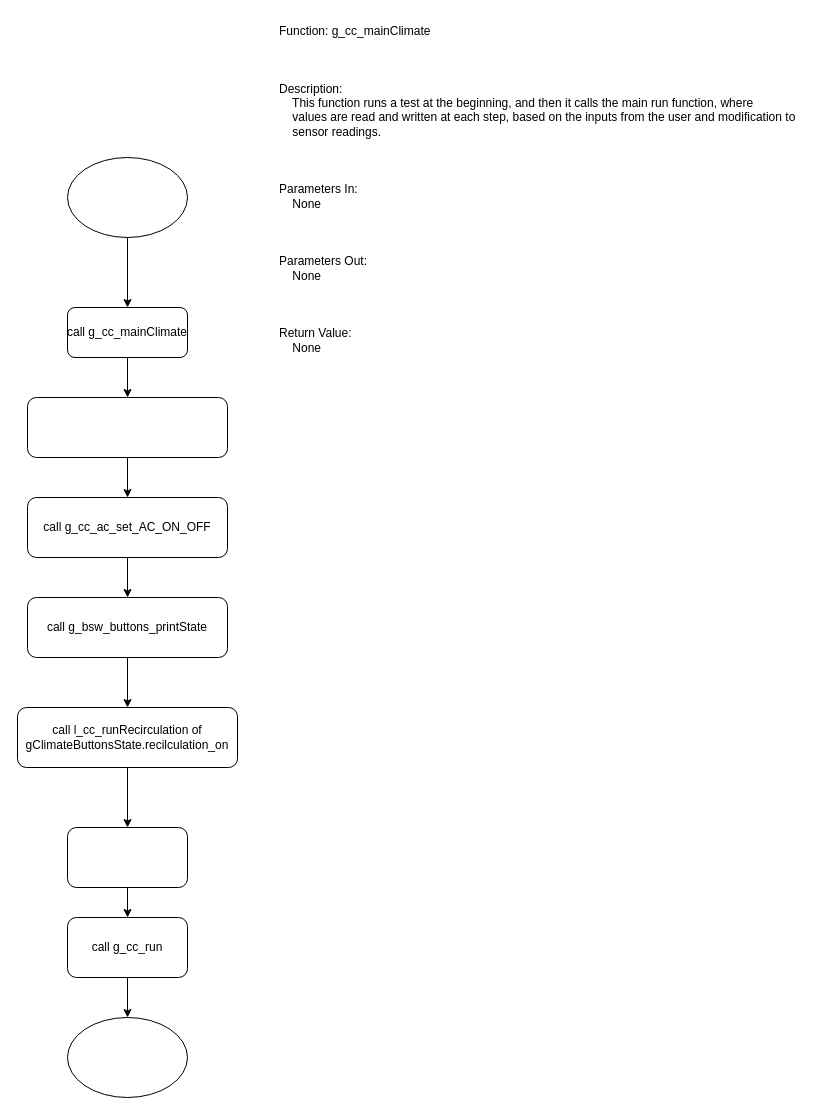
The diagram is 815 pixels wide and 1115 high, and some of its shapes have lost their labels. Each missing label, with the box of its shape:
call g_bsw_buttons_readClimate: (26, 396, 228, 458)
call g_cc_ac_startAC of fan and auto_on buttons: (66, 826, 188, 888)
